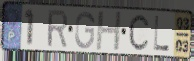1: (23, 8, 35, 47)
C: (128, 13, 150, 52)
G: (73, 10, 96, 50)
H: (95, 10, 124, 52)
L: (153, 14, 171, 52)
R: (46, 9, 69, 49)
